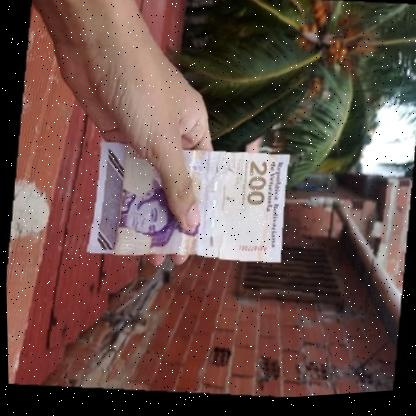two_hundred-front-vef: (81, 132, 292, 278)
